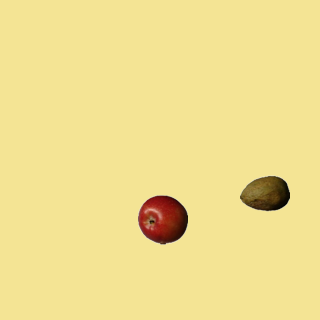Apple Braeburn: (137, 194, 187, 244)
Papaya: (239, 168, 289, 218)
